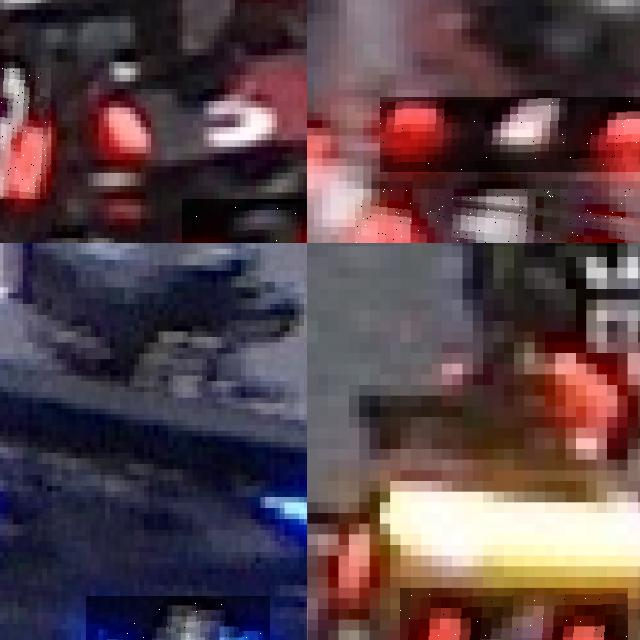B4: (86, 596, 270, 640)
R1: (380, 97, 640, 173), (355, 188, 640, 243)
R3: (0, 68, 51, 198), (182, 199, 307, 243)
R4: (400, 587, 627, 640)
